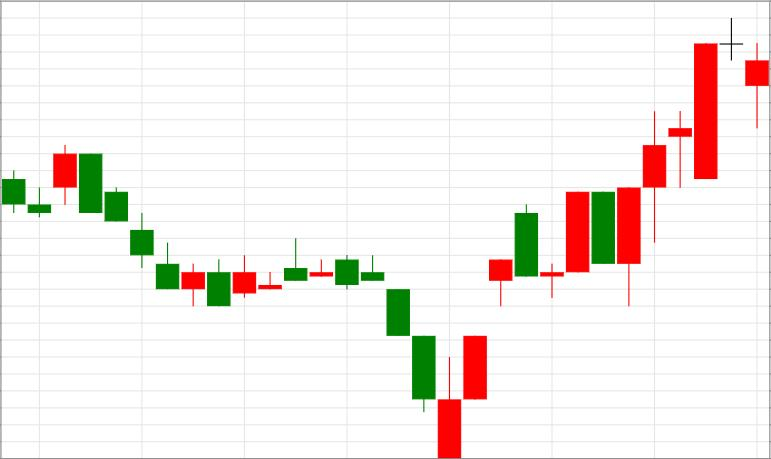three_white_soldiers_rise: (361, 254, 513, 459)
